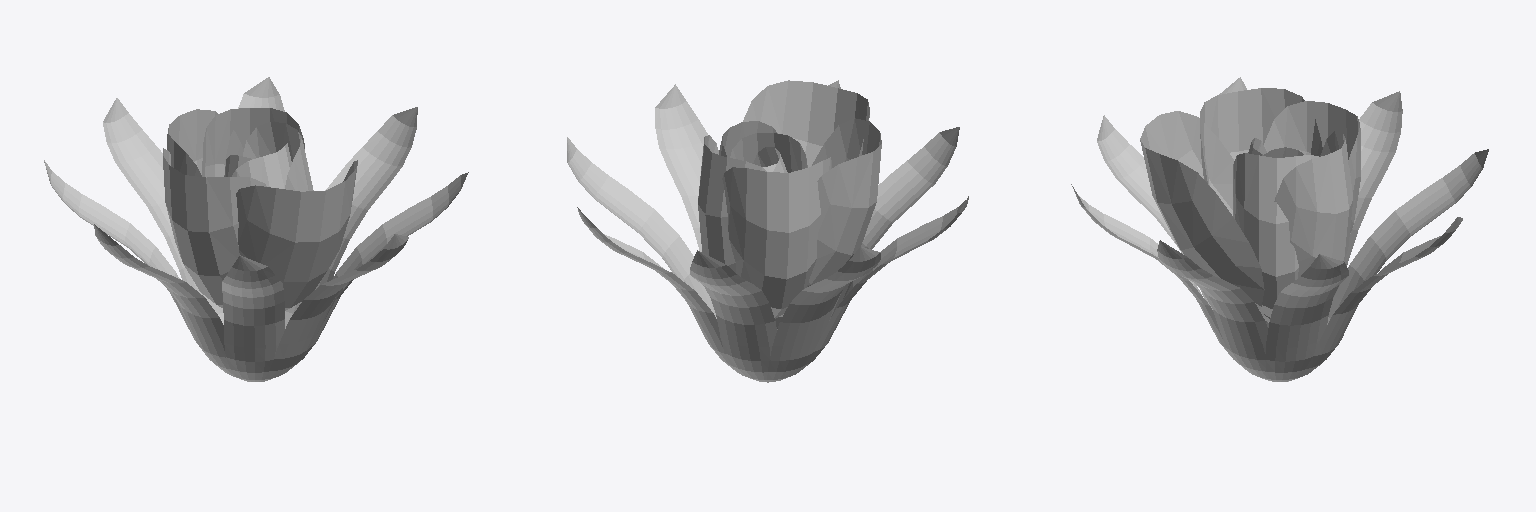
Rendered from FlowerTopModel_03_seq_0024.obj.
The picture shows the model from 3 angles: view 1: azimuth 30°, elevation 25°; view 2: azimuth 150°, elevation 25°; view 3: azimuth 270°, elevation 25°; orthographic projection.
Parts seen in each view (by area): view 1: FlowerTopModel_03; view 2: FlowerTopModel_03; view 3: FlowerTopModel_03.
Boxes of the visible parts, <box> form: FlowerTopModel_03: <box>44,77,468,381</box>; FlowerTopModel_03: <box>567,80,968,382</box>; FlowerTopModel_03: <box>1071,77,1488,381</box>.
Size of the model in its own units: 557 by 360 by 557.